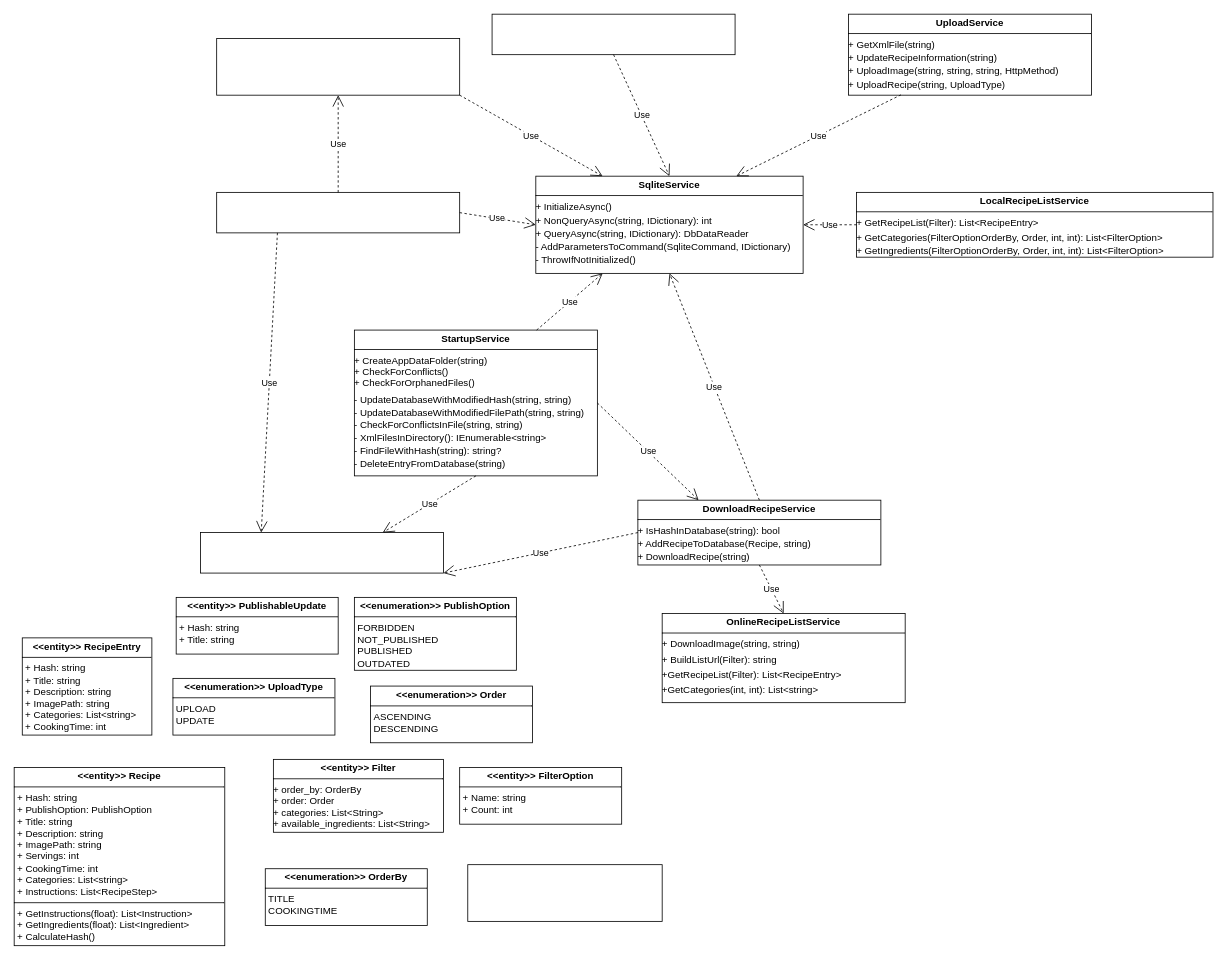
This 1227x960 diagram has some shape labels left out. The shapes that lost their labels are listed below. From the top down, each one's centre as x and y in pixels, then its label:
pixel 613 34: CheckForPublishableUpdates + GetPublishableUpdates(): List<PublishableUpdate>
pixel 338 66: OnlineIdentificationService + GetUUID(): string? + CreateUUID(): string
pixel 338 212: GetLocalRecipeService + GetRecipe(string): Recipe
pixel 321 552: GetRecipeFromFileService + GetRecipeFromFile(string): Recipe
pixel 564 892: <<enumeration>> FilterOptionOrderBy TITLE COUNT
